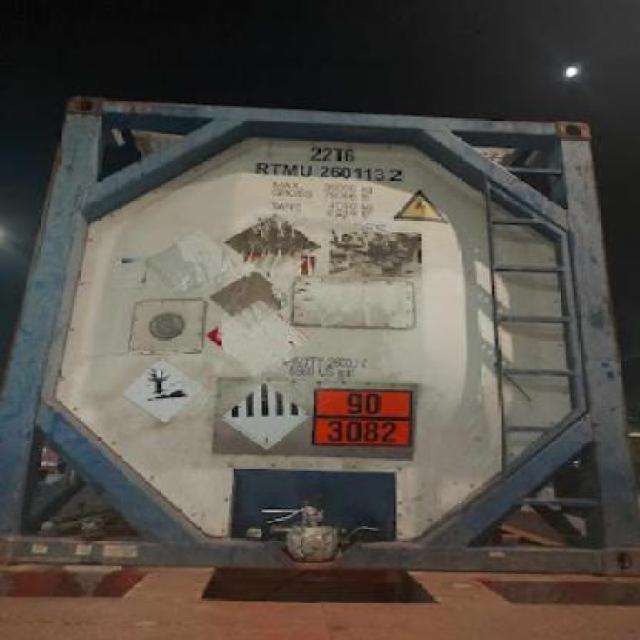ISO: (304, 143, 357, 163)
container_number: (252, 157, 409, 185)
